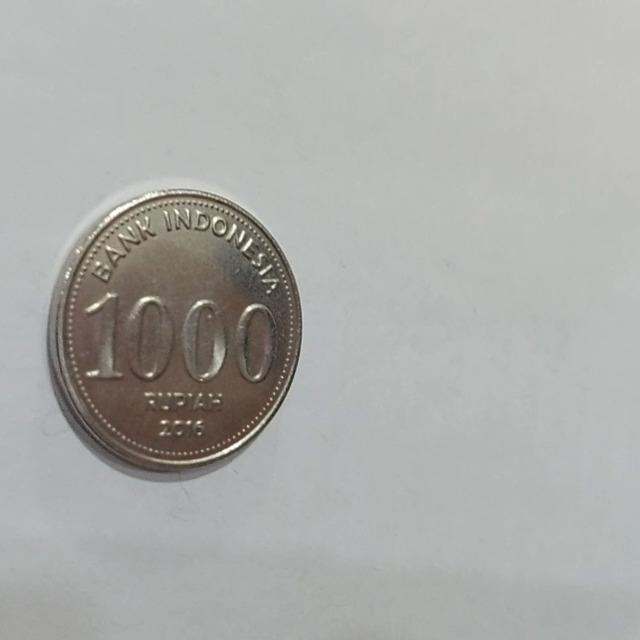Rp100: (45, 185, 304, 478)
